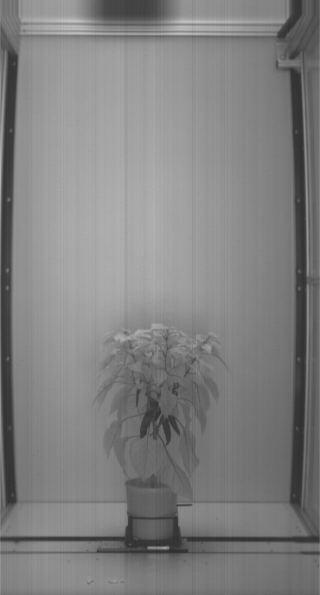bell-pepper fooled_you: (139, 411, 153, 436), (160, 418, 172, 445), (170, 415, 181, 437), (152, 398, 161, 421)
